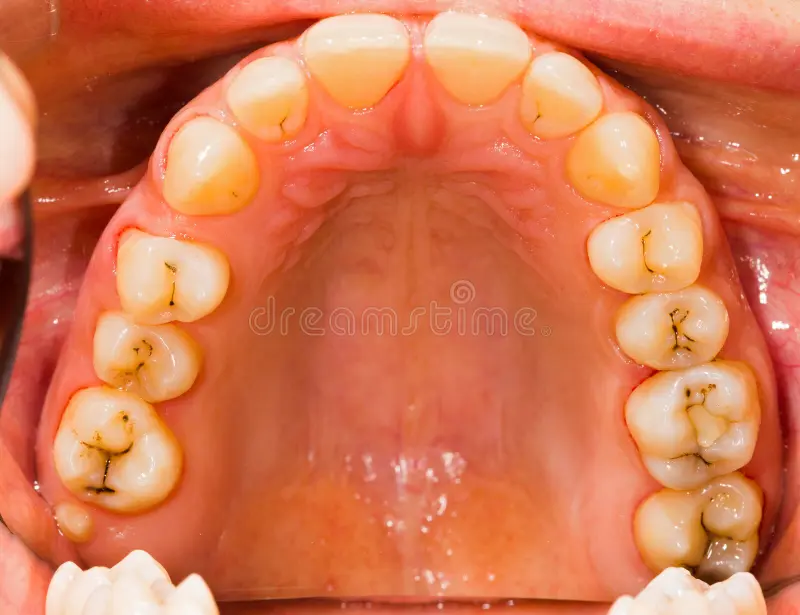UL1BC_decay: (584, 209, 710, 294)
UL1M_decay: (622, 372, 763, 485)
UL2BC_decay: (618, 288, 730, 370)
UL2M_decay: (633, 490, 766, 566)
ULCI_healthy: (424, 11, 527, 103)
ULC_healthy: (571, 120, 661, 207)
ULLI_healthy: (526, 54, 601, 132)
UR1BC_decay: (113, 230, 233, 326)
UR1M_decay: (57, 392, 186, 512)
UR2BC_decay: (93, 309, 205, 401)
URCI_healthy: (305, 14, 408, 109)
URC_healthy: (165, 123, 261, 211)
URLI_healthy: (227, 59, 310, 138)
